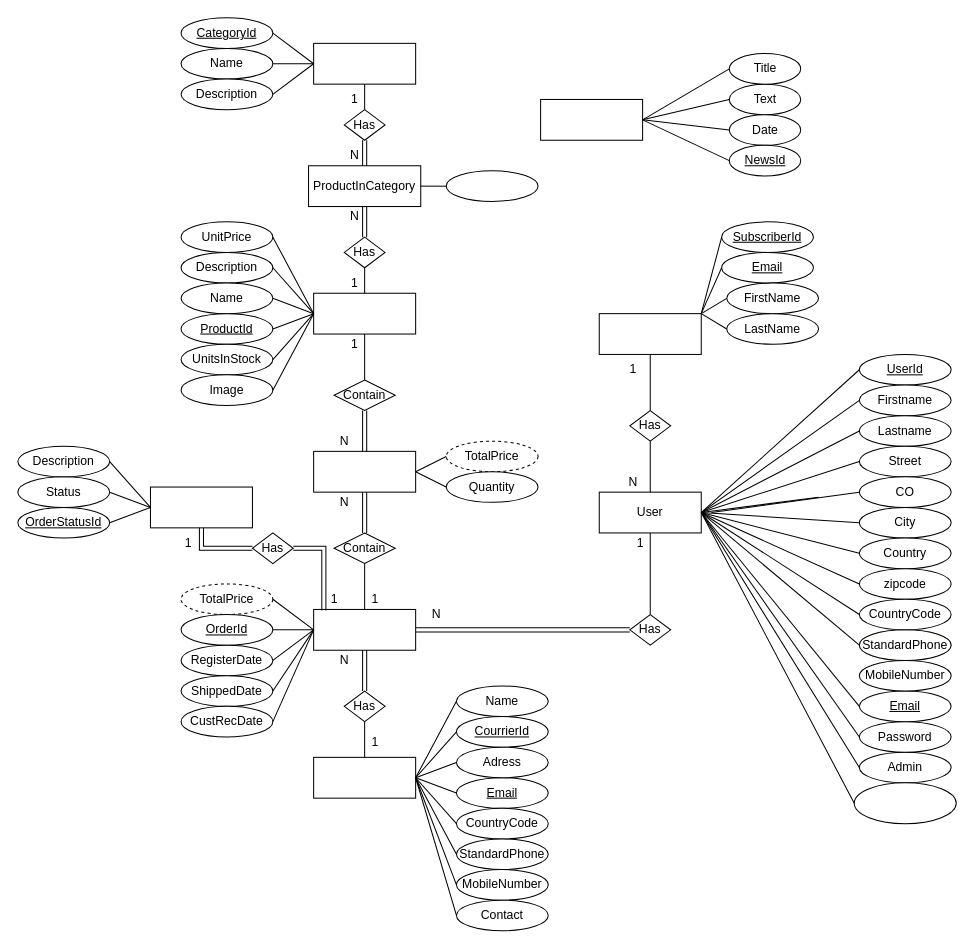
Image size: 974x949. Some labels were removed from this diagram. The centre of each missing label's shape, as x and y in pixels:
Category: point 364,63
Courrier: point 364,777
LastUpdated: point 491,185
Newsletter: point 591,119
Order: point 364,629
Orderdetails: point 364,471
OrderStatus: point 200,507
Product: point 364,313
SubscriptionNews: point 649,333
TermsOfPurchase: point 904,803
